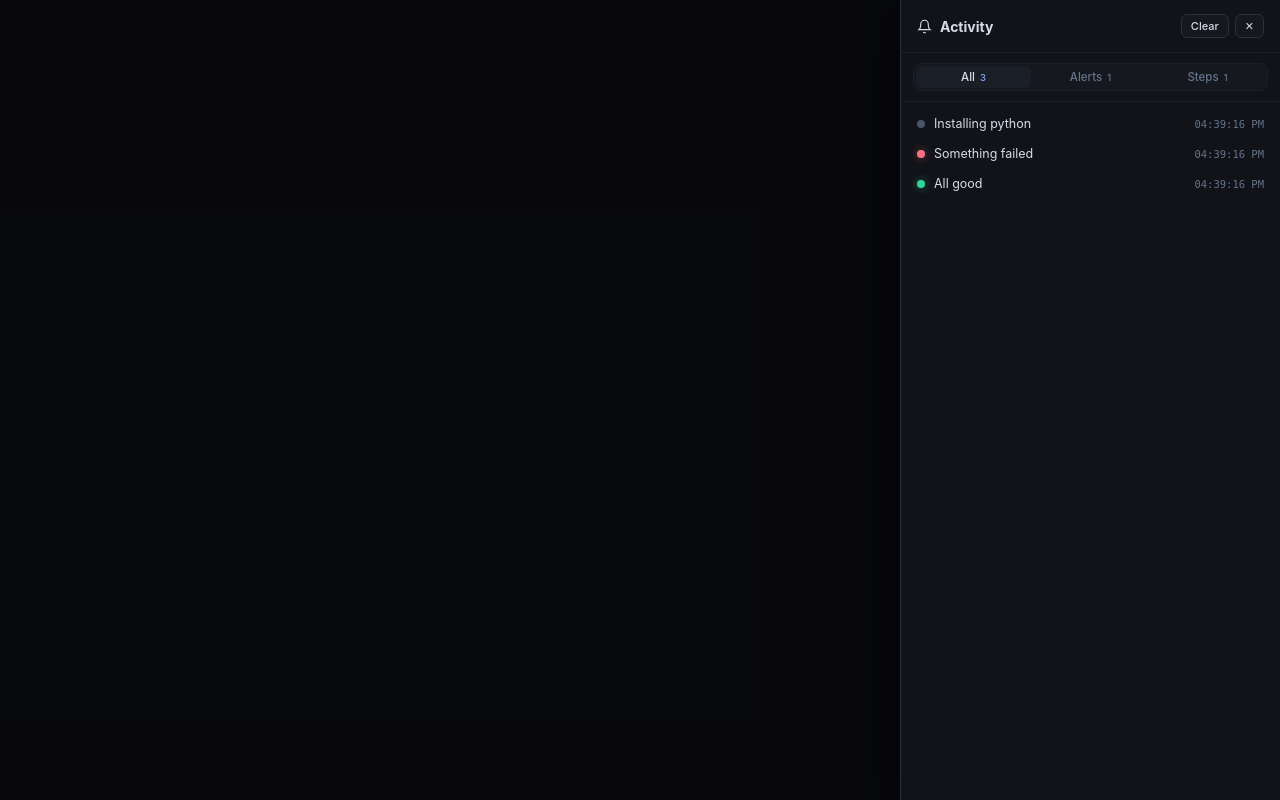
Scenario: ActivityDrawer › filters by kind (Alerts / Steps)
Expected: the text "Something failed" is shown, [934,146,1033,161]
Note: Alerts → only the danger one.
Click the button "Alerts 1" at (1090, 77), box [1033,66,1148,88]
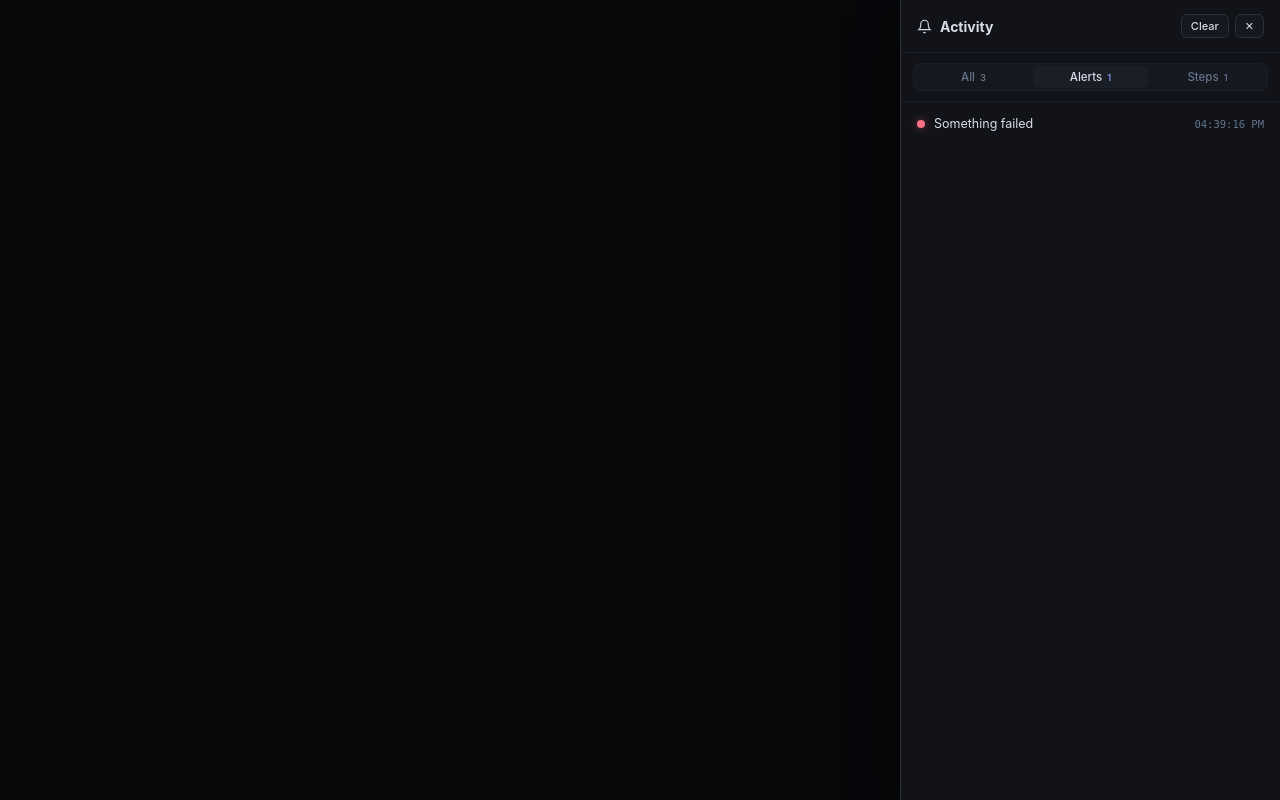
Expected: the text "Something failed" is shown, [934,116,1033,131]
Now the text "All good" is gone
Now the text "Installing python" is gone
Note: Steps → only the progress one.
Click the button "Steps 1" at (1208, 77), box [1150,66,1265,88]
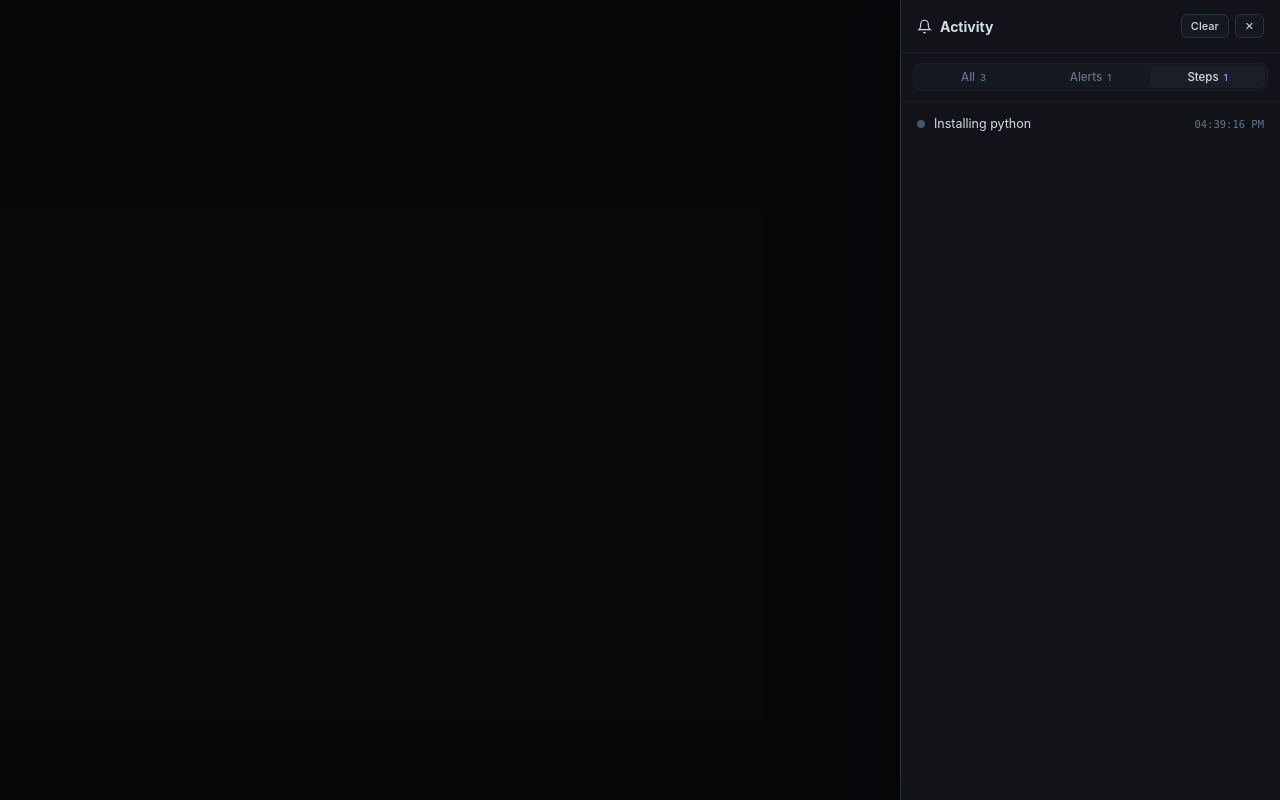
Now the text "Installing python" is shown, box [934,116,1031,131]
Now the text "Something failed" is gone
